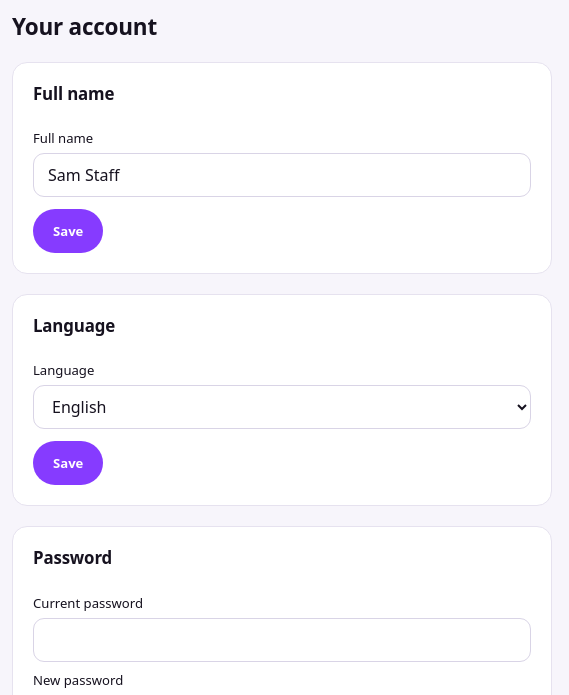
Scenario: AccountPage › clears the "saved" message once the name is edited again
Replace the text in the field labelled "Full name" with "Sam Stone" at (282, 175), box [33,153,531,197]
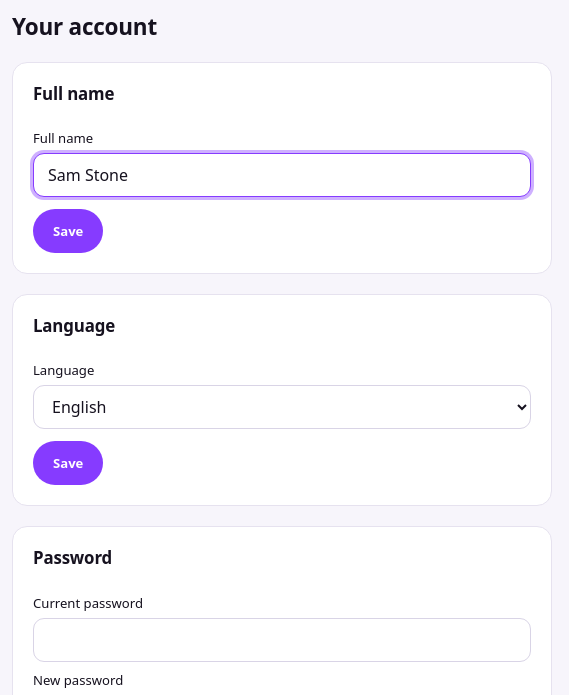
Click the 1st button "Save".
click(68, 231)  # box [33,209,103,253]
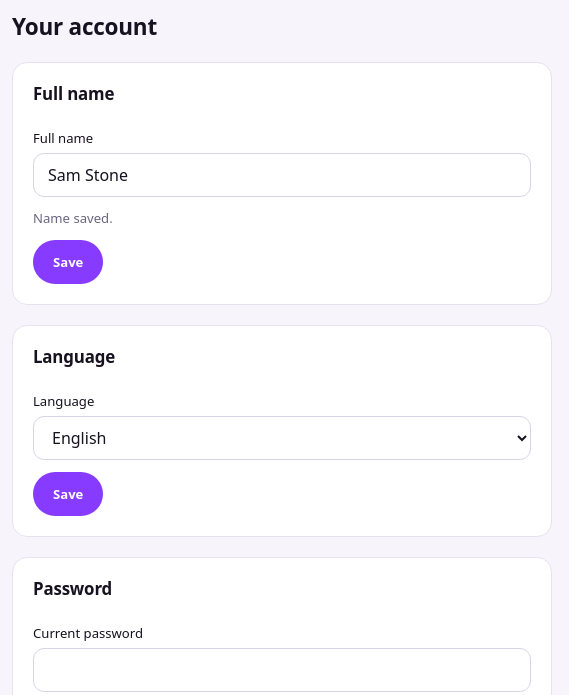
Result: the text "Name saved." is shown at [33,209,113,227]
Type " Jr" into the field labelled "Full name".
click(282, 175); type(" Jr")  # box [33,153,531,197]
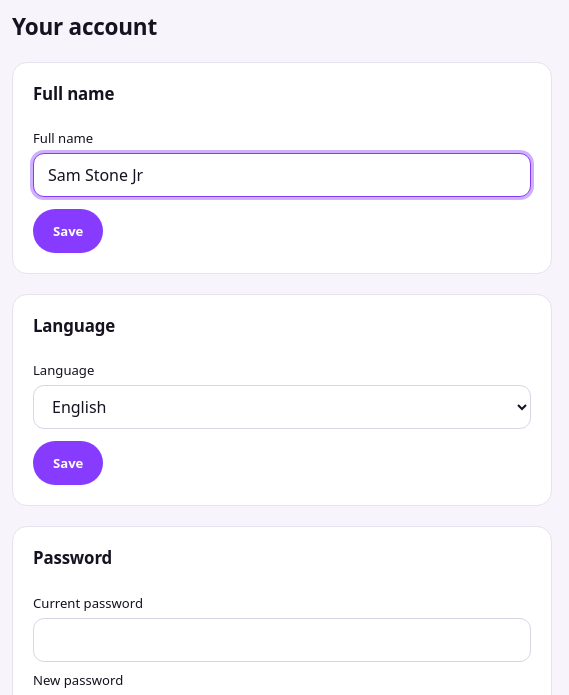
Result: the text "Name saved." is gone
